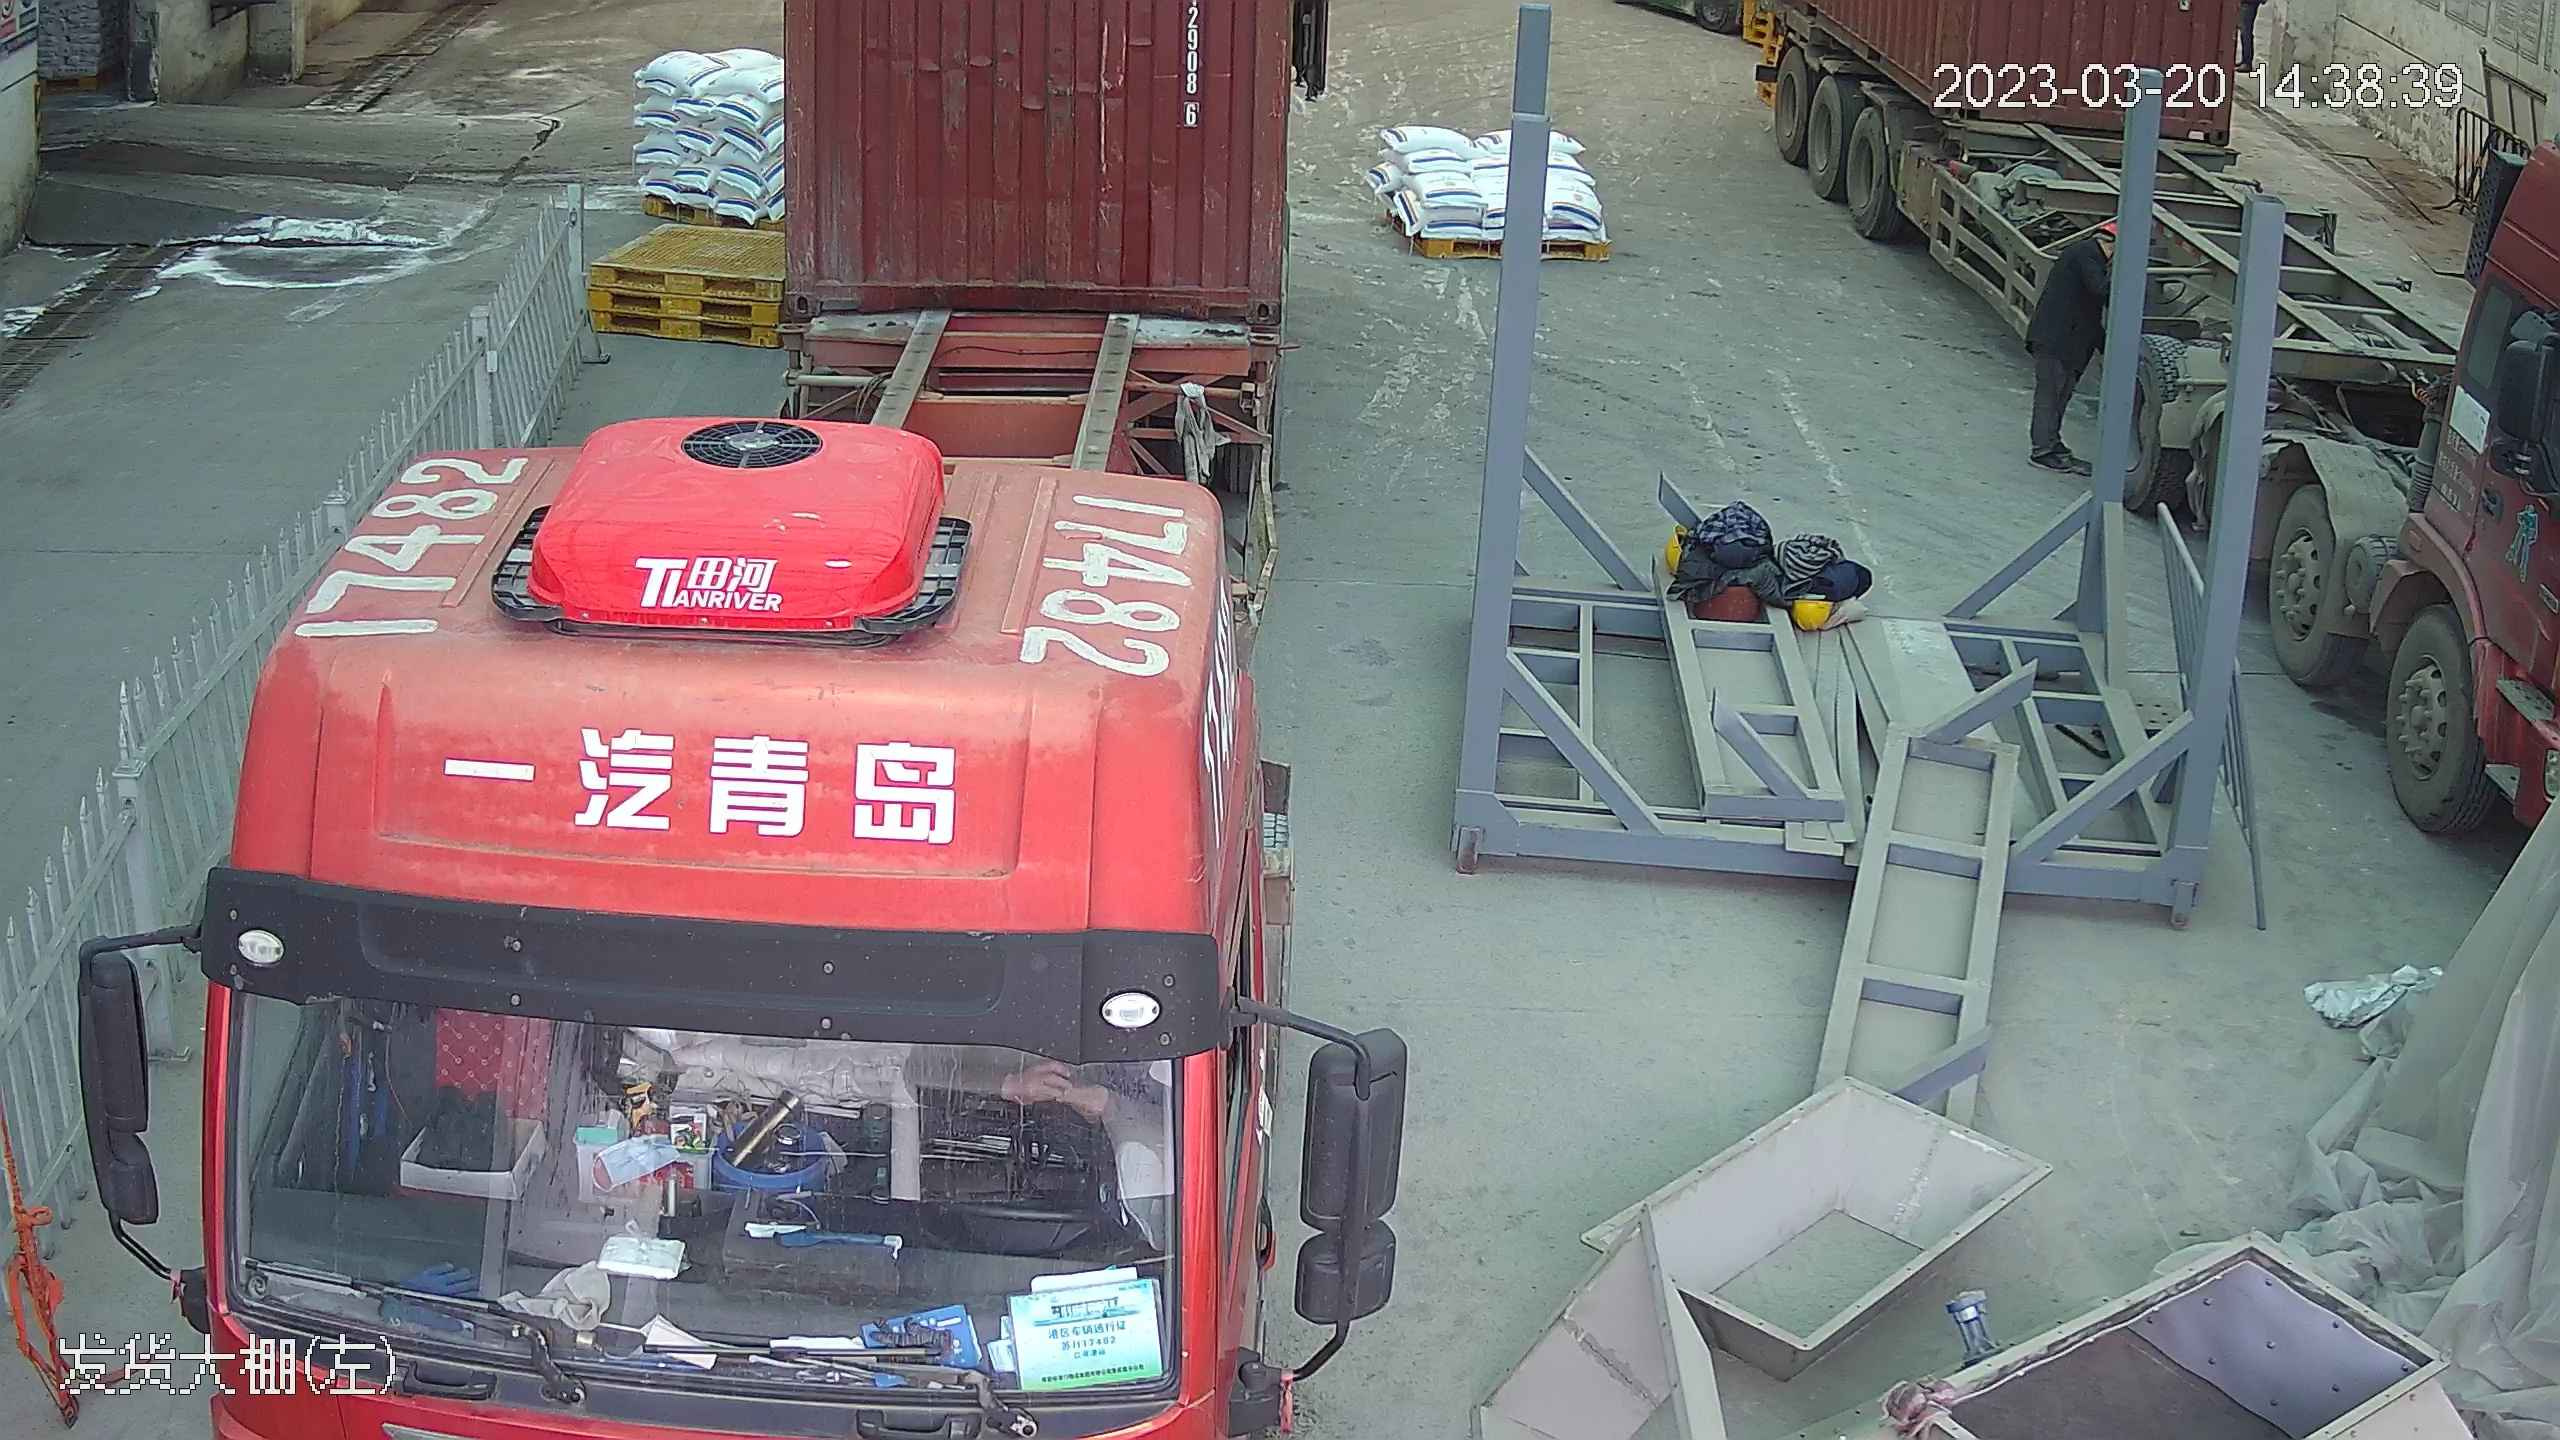people: (2022, 207, 2113, 478)
truck: (65, 1, 1305, 1440)
